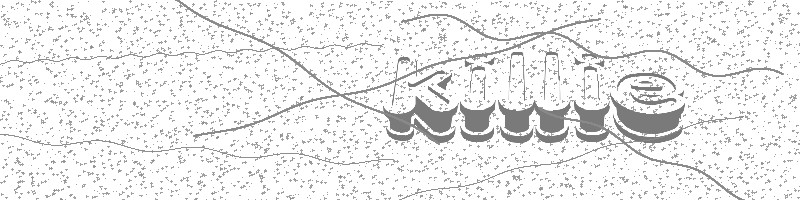e: (611, 70, 688, 144)
i: (572, 47, 612, 145), (459, 50, 497, 144)
k: (378, 50, 458, 145)
l: (497, 49, 536, 144), (535, 47, 573, 144)
